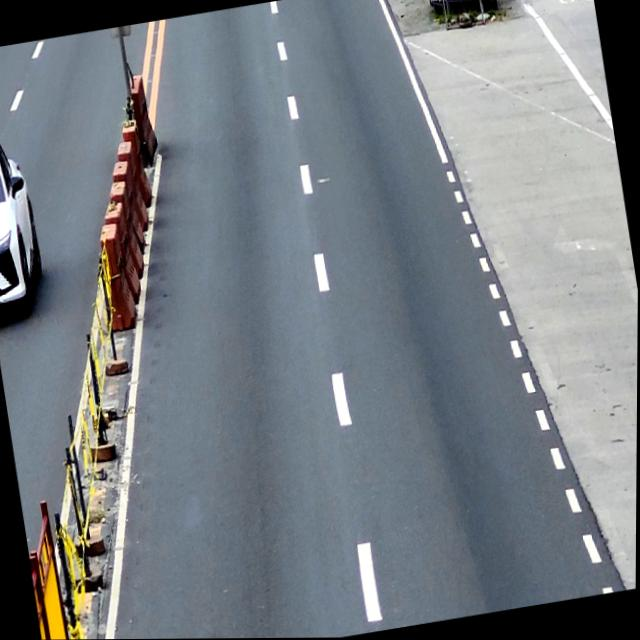Car: (0, 132, 51, 322)
